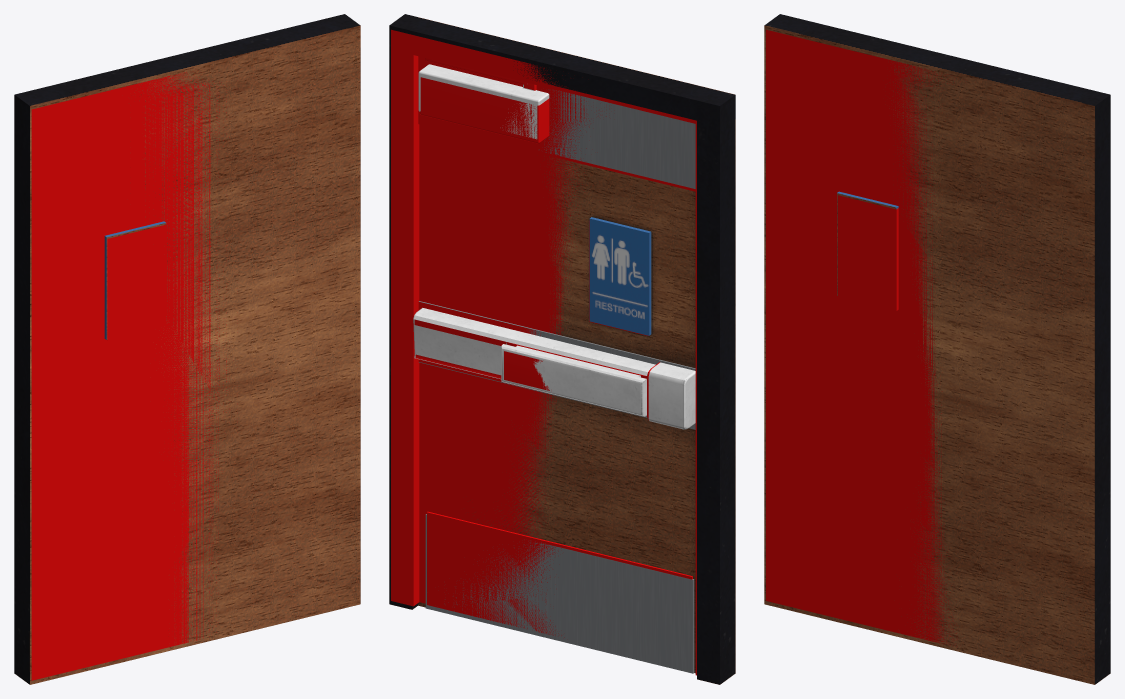
Rendered from Bathroom_Door Prop (1).fbx.
3 views of the same model, side by side, from view 1: azimuth 30°, elevation 25°; view 2: azimuth 150°, elevation 25°; view 3: azimuth 330°, elevation 25° (orthographic).
Parts seen in each view (by area): view 1: Bathroom_Door_Prop__1_, Bathroom_Door_Variant; view 2: Bathroom_Door_Prop__1_, Bathroom_Door_Variant; view 3: Bathroom_Door_Prop__1_, Bathroom_Door_Variant.
Part boxes in pixels (x1,y1,x2,y2): Bathroom_Door_Prop__1_: [14, 14, 360, 684]; Bathroom_Door_Variant: [31, 72, 229, 680]; Bathroom_Door_Prop__1_: [389, 14, 735, 684]; Bathroom_Door_Variant: [391, 29, 696, 675]; Bathroom_Door_Prop__1_: [764, 14, 1110, 684]; Bathroom_Door_Variant: [766, 29, 957, 645].
Size of the model in its own units: 539 by 902 by 79.73.
Materials: 2 (1 with a texture image).
